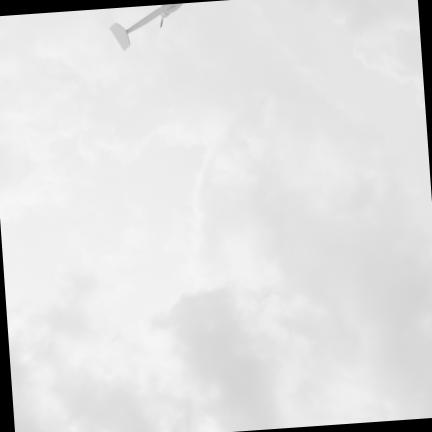Shahed: (109, 2, 181, 49)
